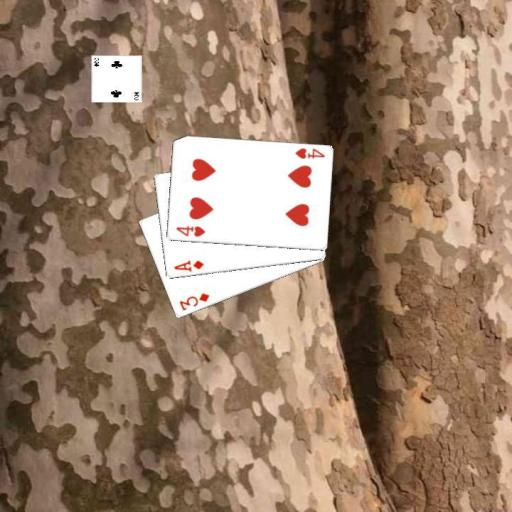3D: (176, 290, 211, 312)
4H: (292, 145, 326, 161), (173, 223, 206, 238)
AD: (171, 257, 205, 273)
